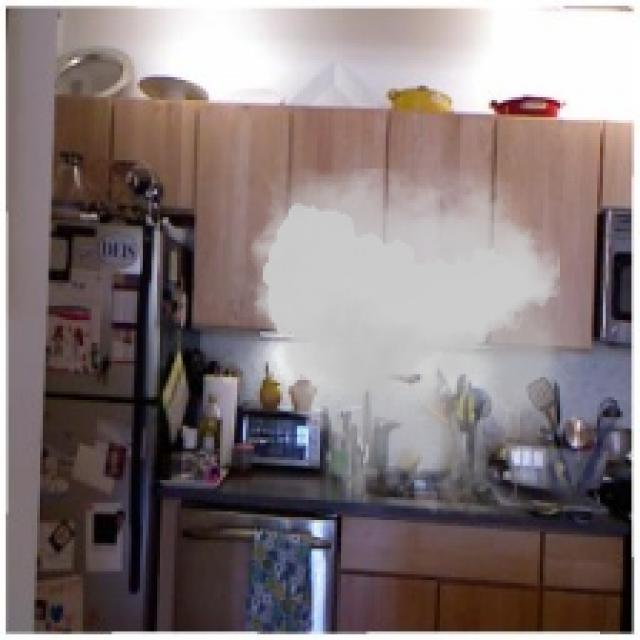smoke: (240, 137, 583, 537)
